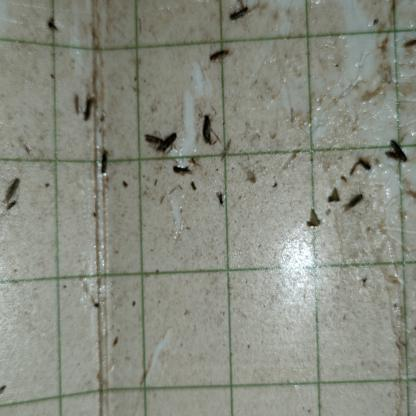prays_oleae: (384, 131, 409, 171), (0, 172, 22, 214), (200, 107, 220, 151), (156, 126, 182, 158), (228, 2, 255, 26), (206, 45, 234, 67), (95, 146, 111, 180), (347, 182, 363, 216), (44, 11, 61, 37), (170, 160, 194, 178), (307, 204, 322, 232), (81, 93, 94, 125), (144, 128, 163, 148), (70, 92, 82, 120), (357, 150, 373, 171), (326, 185, 342, 206), (212, 188, 226, 211)
